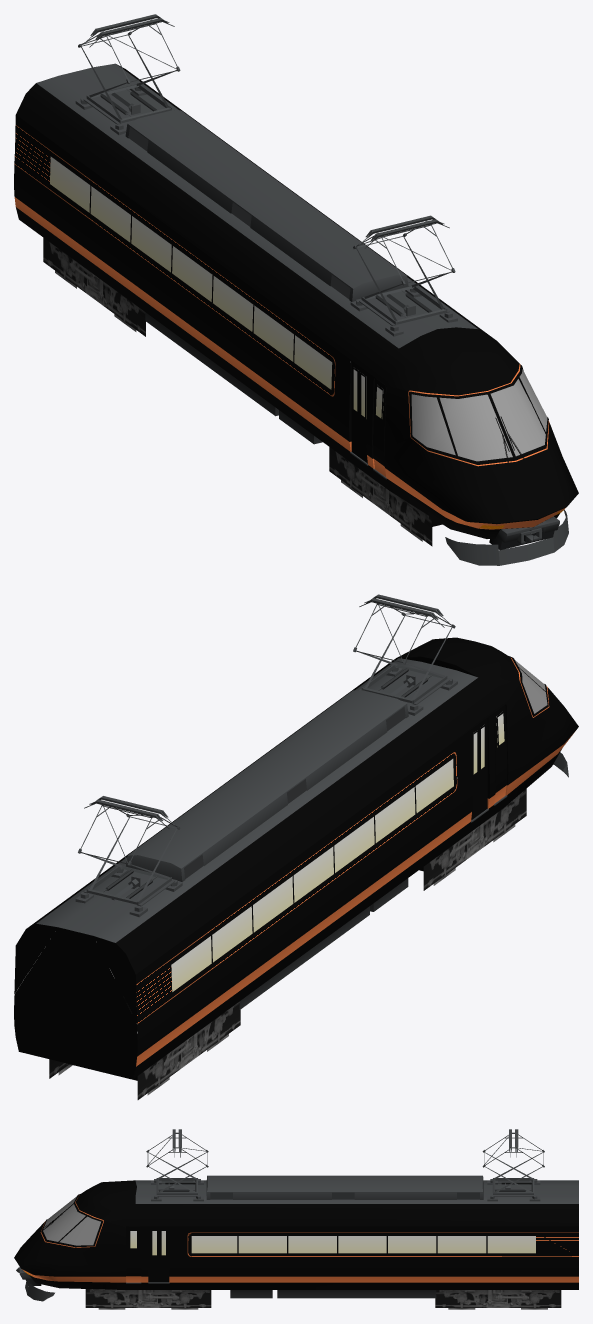
The picture shows the model from 3 angles, top to bottom: view 1: azimuth 30°, elevation 25°; view 2: azimuth 150°, elevation 25°; view 3: azimuth 270°, elevation 25°; orthographic projection. The views are drawn at different scales.
Parts seen in each view (by area): view 1: obj21; view 2: obj21; view 3: obj21.
Part boxes in pixels (x1=…): obj21: x1=14, y1=14, x2=578, y2=565; obj21: x1=14, y1=594, x2=578, y2=1099; obj21: x1=14, y1=1129, x2=578, y2=1309.
Bounding box in the file's own units: 6.49 × 12.98 × 42.
Materials: 14 (12 with a texture image).
